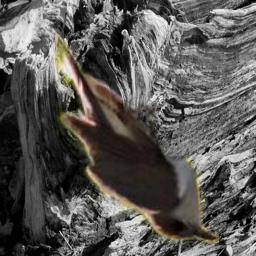Cuckoo: (55, 25, 219, 245)
